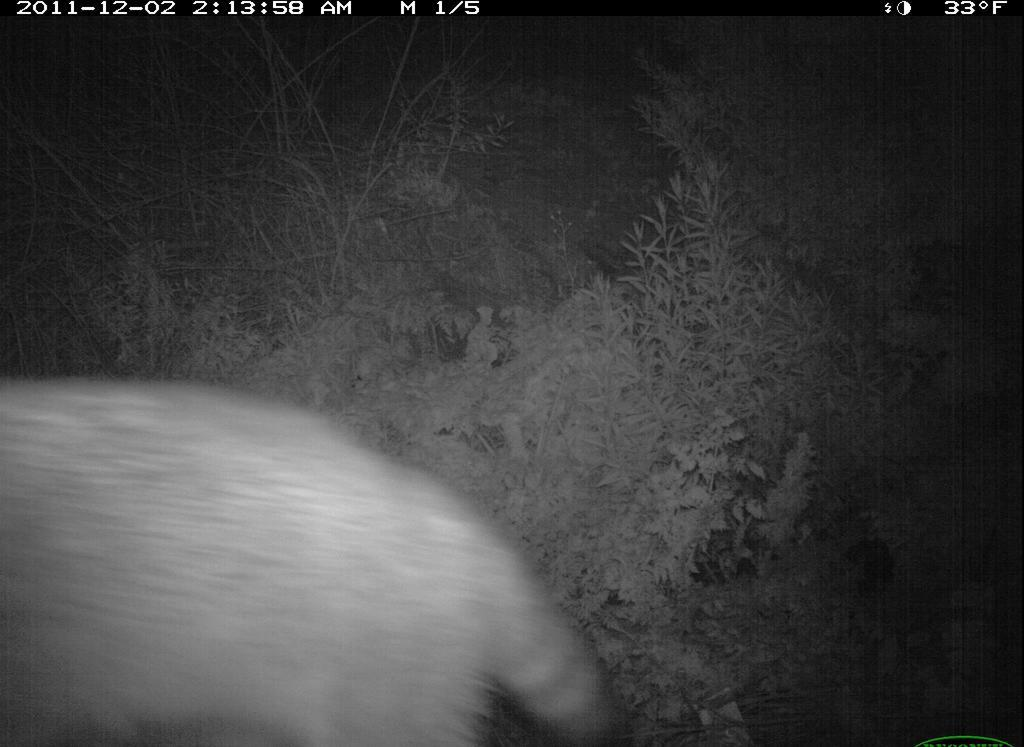raccoon: (3, 354, 629, 745)
